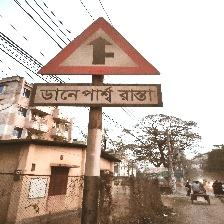Side-road-right: (32, 16, 164, 108)
